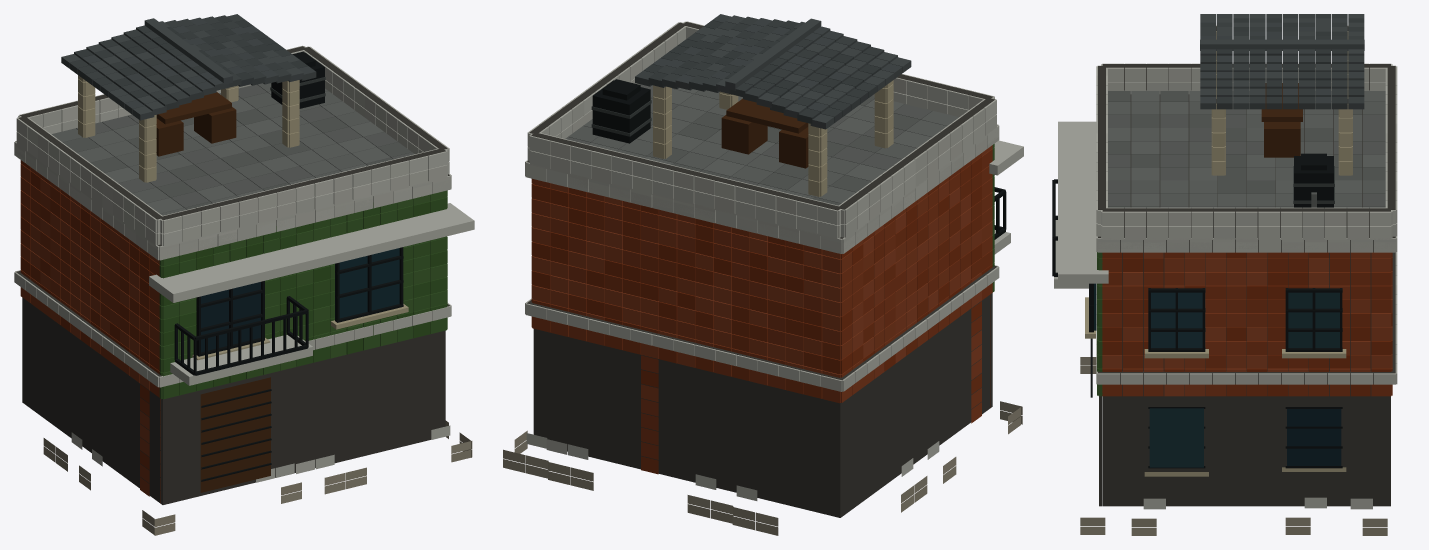
The model's file is SM_StreetFrontage_044.fbx.
The picture shows the model from 3 angles, left to right: view 1: azimuth 30°, elevation 25°; view 2: azimuth 150°, elevation 25°; view 3: azimuth 270°, elevation 25°; orthographic projection. The views are drawn at different scales.
Visible parts, largest first — view 1: SM_StreetFrontage_044; view 2: SM_StreetFrontage_044; view 3: SM_StreetFrontage_044.
Part boxes in pixels (<box>): SM_StreetFrontage_044: <box>14,14,474,535</box>; SM_StreetFrontage_044: <box>503,14,1023,535</box>; SM_StreetFrontage_044: <box>1052,14,1397,535</box>.
Size of the model in its own units: 8 by 7.53 by 9.14.
